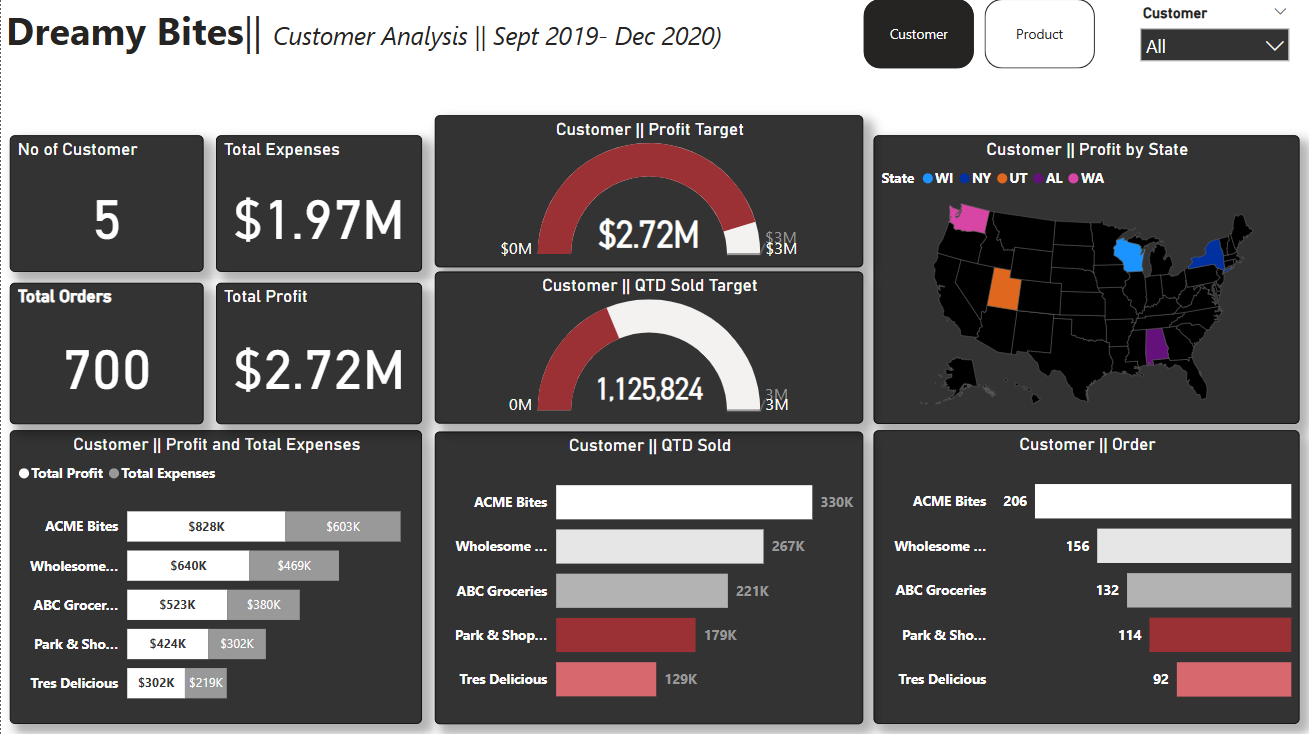

What the dashboard file says about the page in this screenshot:
{"tool":"powerbi","page":{"name":"Customer","canvas":[1280,720],"ordinal":0},"visuals":[{"type":"shapeMap","title":"Customer || Profit by State","fields":{"Category":["Customers_Dim.State"],"Value":["Sum(Order_fact.Profit)"],"Series":["Customers_Dim.State"]},"box":[853.5,133.3,417,282.5],"z":0},{"type":"clusteredBarChart","title":"Customer || Order","fields":{"Y":["Calculated Measures.Total Order"],"Category":["Customers_Dim.Name"]},"box":[853.5,421.9,417,287.4],"z":1000},{"type":"clusteredBarChart","title":"Customer || QTD Sold","fields":{"Category":["Customers_Dim.Name"],"Y":["Calculated Measures.Total QTD Sold"]},"box":[424.3,423.1,419.4,286.1],"z":2000},{"type":"barChart","title":"Customer || Profit and Total Expenses","fields":{"Category":["Customers_Dim.Name"],"Y":["Calculated Measures.Total Profit","Calculated Measures.Total Expenses"]},"box":[8.6,421.9,403.5,287.4],"z":3000},{"type":"card","title":"No of Customer","fields":{"Values":["Calculated Measures.Total Customer"]},"box":[8.6,133.3,189.5,133.3],"z":4000},{"type":"card","title":"Total Orders","fields":{"Values":["Calculated Measures.Total Order"]},"box":[8.6,277.6,189.5,138.2],"z":5000},{"type":"card","title":"Total Expenses","fields":{"Values":["Calculated Measures.Total Expenses"]},"box":[210.3,133.3,201.8,133.3],"z":6000},{"type":"card","title":"Total Profit","fields":{"Values":["Calculated Measures.Total Profit"]},"box":[210.3,277.6,201.8,138.2],"z":7000},{"type":"gauge","title":"Customer || Profit Target","fields":{"Y":["Calculated Measures.Total Profit"]},"box":[424.3,113.7,419.4,149.2],"z":8000},{"type":"gauge","title":"Customer || QTD Sold Target","fields":{"Y":["Calculated Measures.Total QTD Sold"]},"box":[424.3,266.6,419.4,149.2],"z":9000},{"type":"textbox","box":[0,0,753.3,61.1],"z":10000},{"type":"slicer","fields":{"Values":["Customers_Dim.Name"]},"box":[1104.2,0,166.3,68.5],"z":11000},{"type":"pageNavigator","box":[843.8,0,226.2,68.5],"z":12000}]}

Visuals, with their boxes in screenshot pixels (x1, y1, x2, y2), scaled from the page's 1280x720 canvas onto the 1309x734 screenshot:
"Customer || Profit by State" shapeMap: box=[873, 136, 1299, 424]
"Customer || Order" clusteredBarChart: box=[873, 430, 1299, 723]
"Customer || QTD Sold" clusteredBarChart: box=[434, 431, 863, 723]
"Customer || Profit and Total Expenses" barChart: box=[9, 430, 421, 723]
"No of Customer" card: box=[9, 136, 203, 272]
"Total Orders" card: box=[9, 283, 203, 424]
"Total Expenses" card: box=[215, 136, 421, 272]
"Total Profit" card: box=[215, 283, 421, 424]
"Customer || Profit Target" gauge: box=[434, 116, 863, 268]
"Customer || QTD Sold Target" gauge: box=[434, 272, 863, 424]
textbox: box=[0, 0, 770, 62]
slicer - Customers_Dim.Name: box=[1129, 0, 1299, 70]
pageNavigator: box=[863, 0, 1094, 70]
